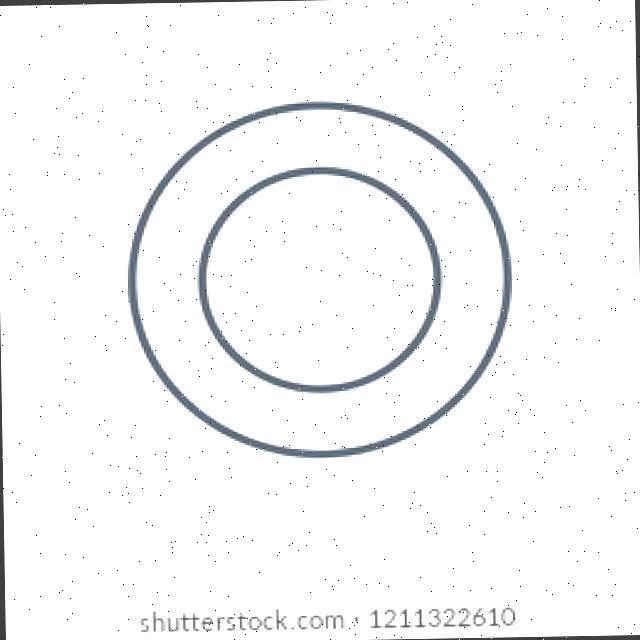Circle: (126, 97, 510, 459), (196, 167, 444, 403)
